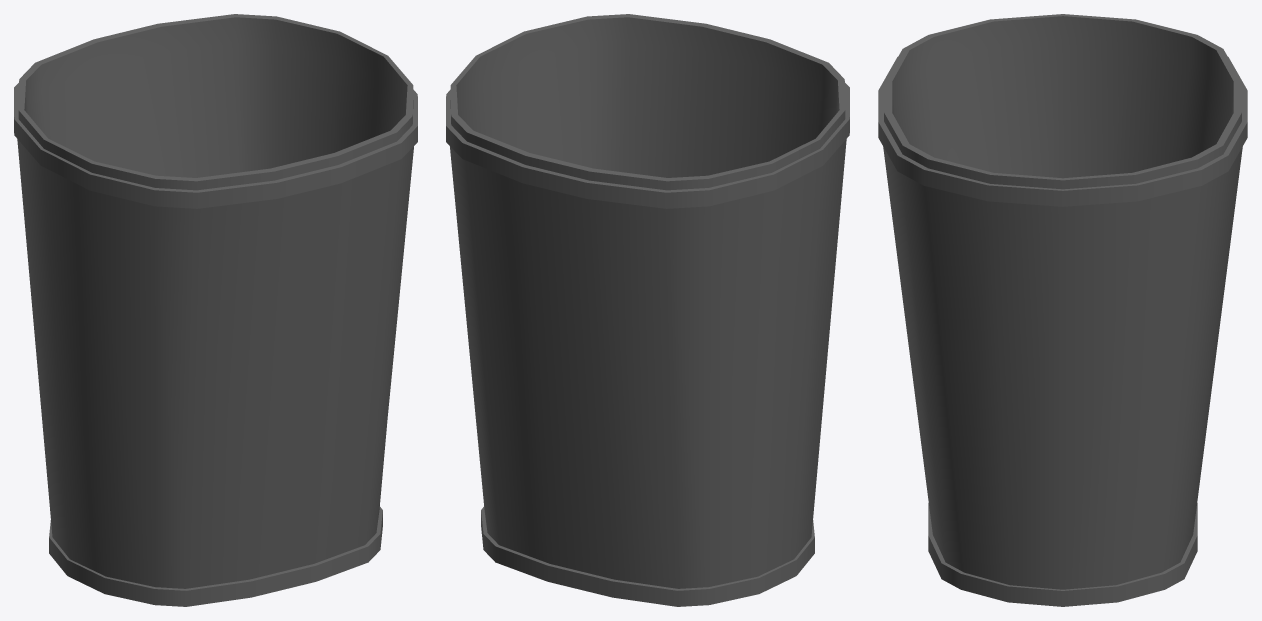
The model's file is Trashcan_Small2.glb.
The picture shows the model from 3 angles, left to right: view 1: azimuth 30°, elevation 25°; view 2: azimuth 150°, elevation 25°; view 3: azimuth 270°, elevation 25°; orthographic projection.
Parts seen in each view (by area): view 1: Trashcan_Small2; view 2: Trashcan_Small2; view 3: Trashcan_Small2.
Boxes of the visible parts, x1,y1,x2,y2 form: Trashcan_Small2: (14, 14, 417, 606); Trashcan_Small2: (446, 14, 849, 606); Trashcan_Small2: (878, 14, 1247, 606).
Size of the model in its own units: 0.2273 by 0.274 by 0.2095.
1 material, 1 textured.
